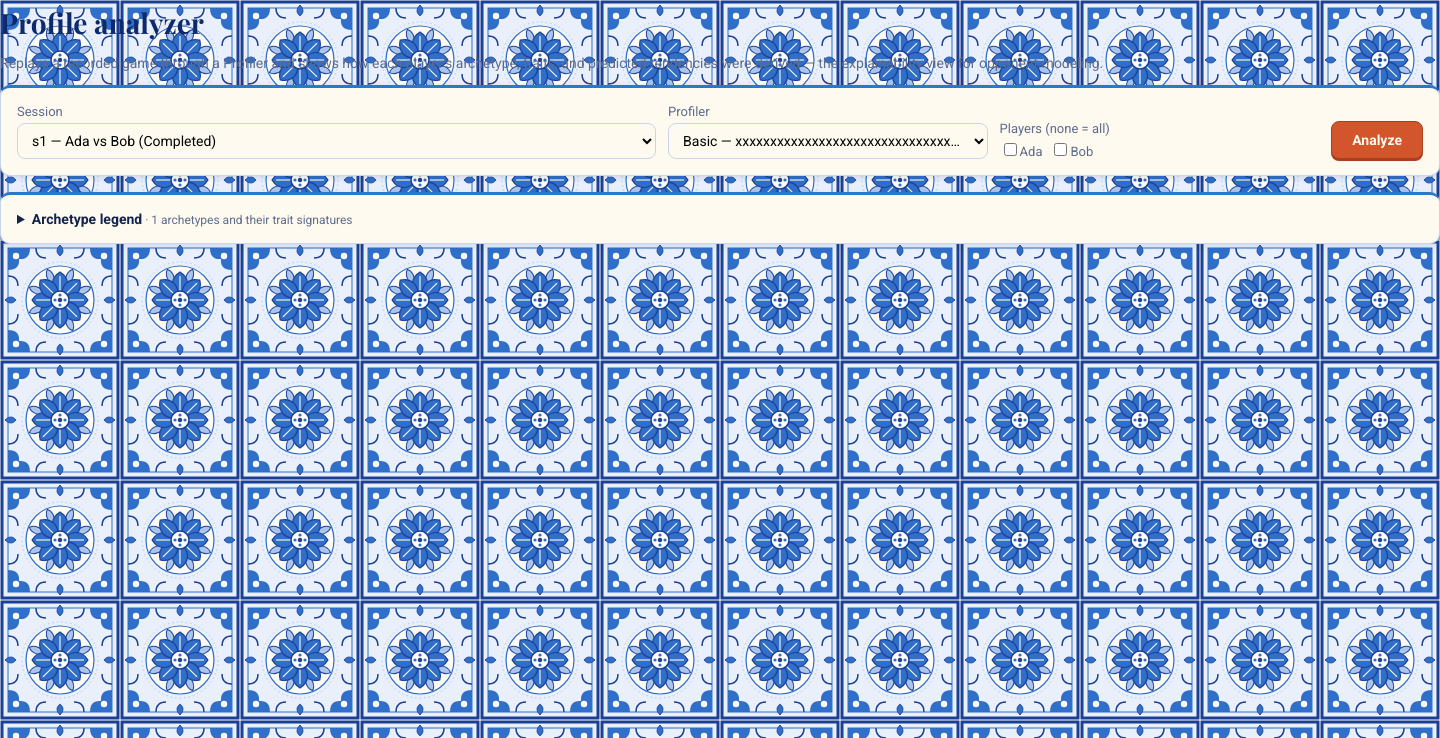
Scenario: Profiles › filters by selected players
Click the button "Analyze": (1377, 140) [1331,121,1423,159]
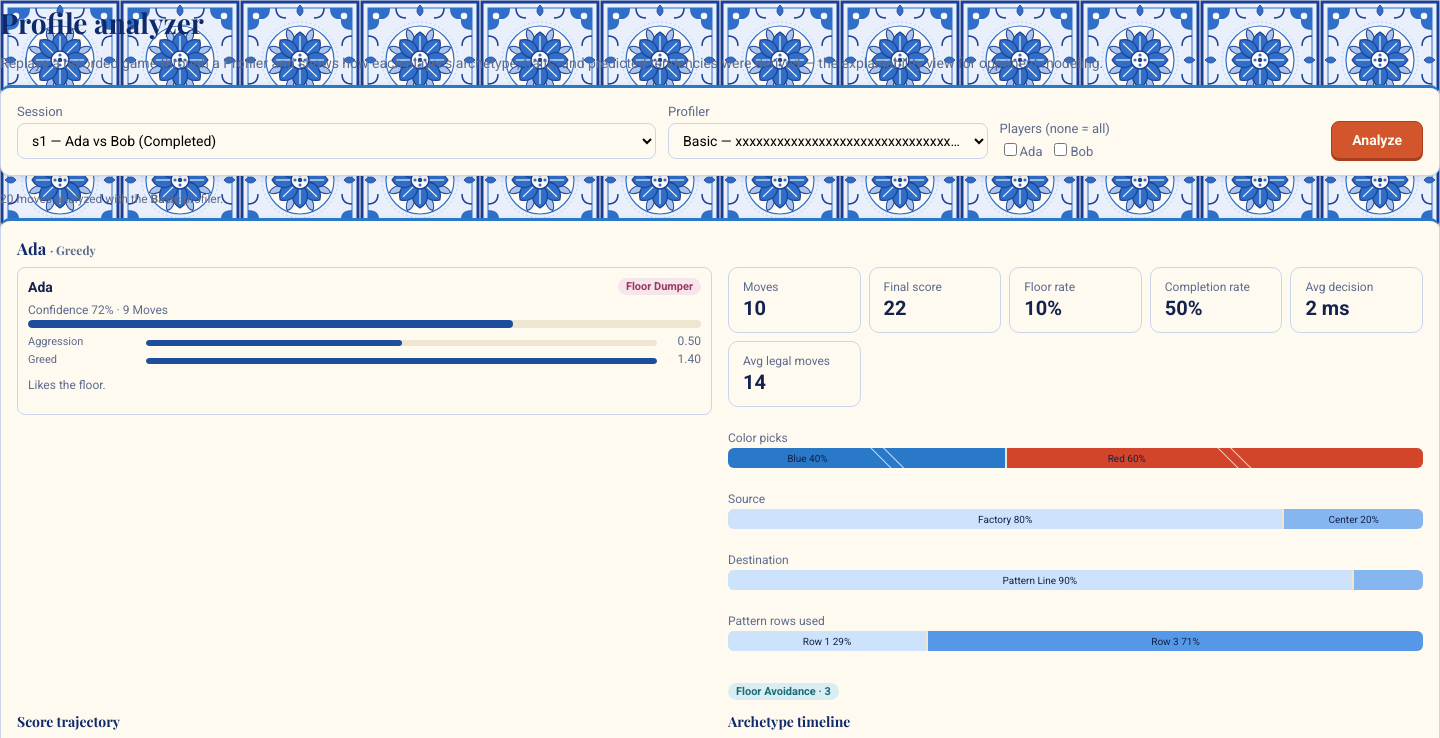
Result: the text "20 moves analyzed with the Basic profiler." is shown at [0,192,223,206]
Click the checkbox labelled "Bob": (1061, 150) [1054,143,1068,156]
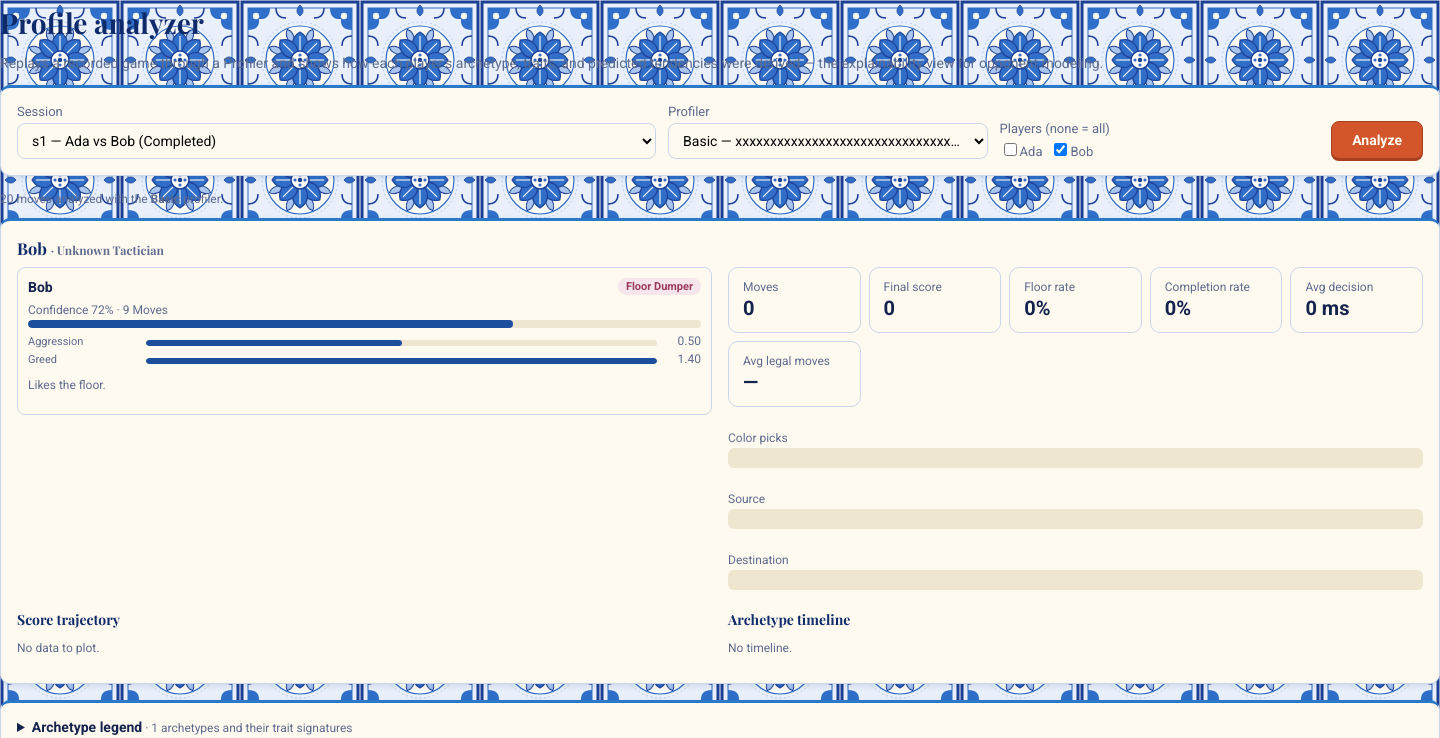
Expected: the text "Bob" next to "Ada" is shown, [1070,144,1093,159]
Result: the number of headings "Score trajectory" is 1 at [17,610,120,629]
